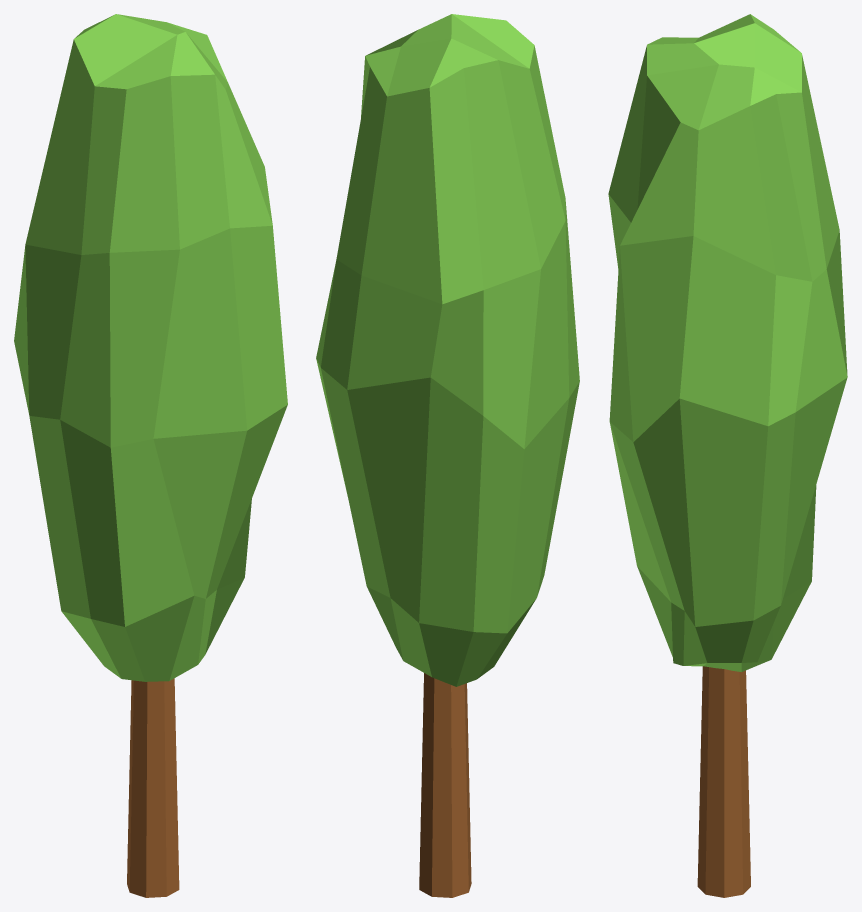
File: Tree.fbx
3 views of the same model, side by side, from view 1: azimuth 30°, elevation 25°; view 2: azimuth 150°, elevation 25°; view 3: azimuth 270°, elevation 25° (orthographic).
Parts seen in each view (by area): view 1: pCylinder4; view 2: pCylinder4; view 3: pCylinder4.
Boxes of the visible parts, x1,y1,x2,y2 form: pCylinder4: (14, 14, 287, 897); pCylinder4: (316, 14, 579, 897); pCylinder4: (608, 14, 847, 897).
Size of the model in its own units: 4.83 by 18.26 by 4.64.
Materials: 1 (1 with a texture image).
